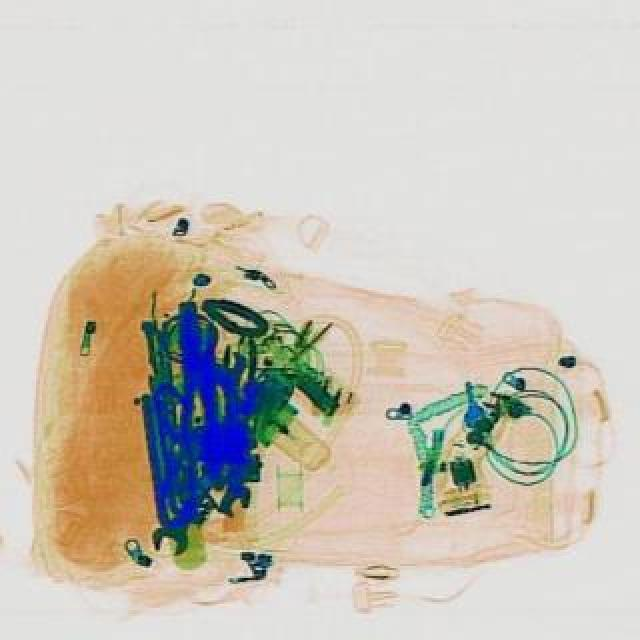scissors: (146, 464, 224, 560), (210, 350, 250, 516)
wrench: (168, 298, 226, 490)
